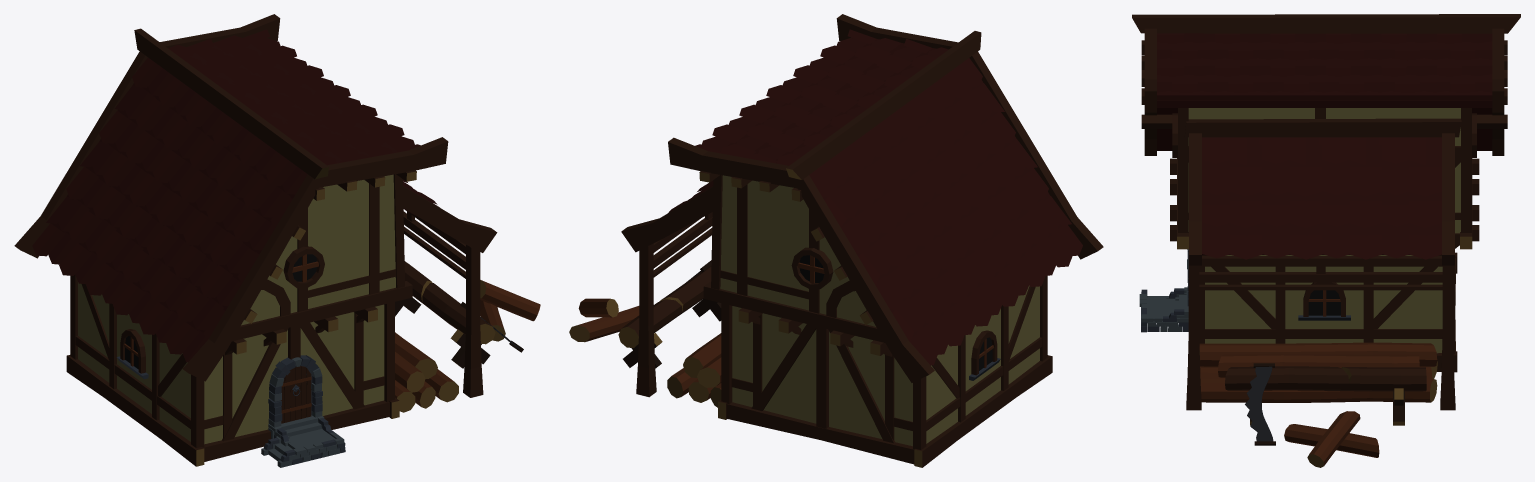
File: Sawmill.obj
3 views of the same model, side by side, from view 1: azimuth 30°, elevation 25°; view 2: azimuth 150°, elevation 25°; view 3: azimuth 270°, elevation 25° (orthographic). The views are drawn at different scales.
Parts seen in each view (by area): view 1: Sawmill_Cube.047; view 2: Sawmill_Cube.047; view 3: Sawmill_Cube.047.
Part boxes in pixels (left/top/right/bottom): Sawmill_Cube.047: left=14, top=14, right=540, bottom=467; Sawmill_Cube.047: left=569, top=14, right=1103, bottom=467; Sawmill_Cube.047: left=1132, top=14, right=1520, bottom=467.
Size of the model in its own units: 4.4 by 2.86 by 3.28.
